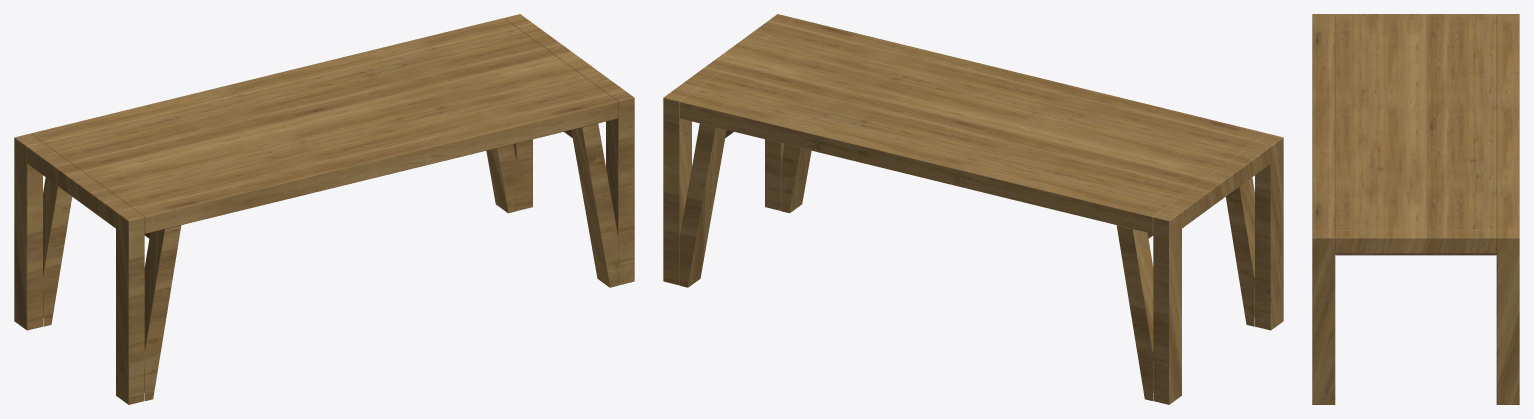
File: OBJ-meeting_table.glb
3 views of the same model, side by side, from view 1: azimuth 30°, elevation 25°; view 2: azimuth 150°, elevation 25°; view 3: azimuth 270°, elevation 25° (orthographic). The views are drawn at different scales.
Visible parts, largest first — view 1: Object026_Material #3_0; view 2: Object026_Material #3_0; view 3: Object026_Material #3_0, Object025_Material #2_0.
Part boxes in pixels (bbox=[...]): Object026_Material #3_0: bbox=[14, 14, 634, 404]; Object026_Material #3_0: bbox=[663, 14, 1283, 404]; Object026_Material #3_0: bbox=[1312, 14, 1519, 404]; Object025_Material #2_0: bbox=[1335, 253, 1496, 255].
Size of the model in its own units: 2.3 by 0.8001 by 0.9001.
2 materials, 2 textured.
